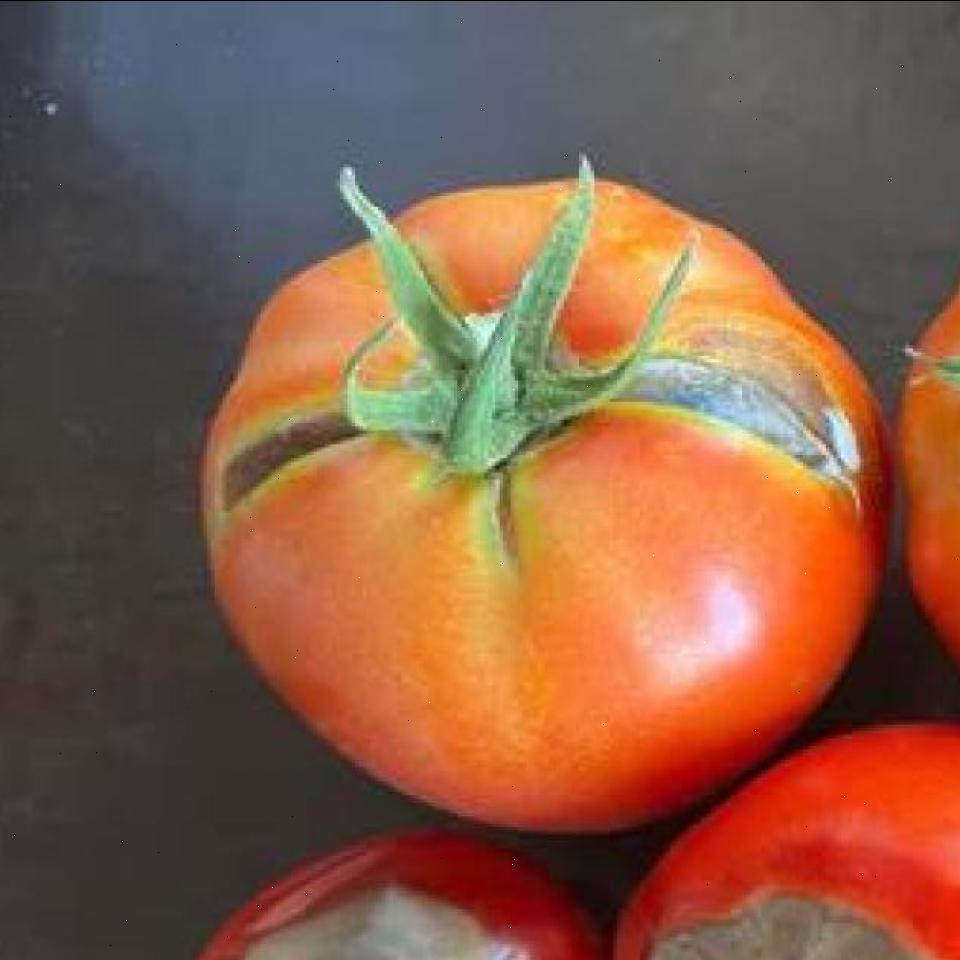Blossom_end_rot: (236, 881, 552, 960), (648, 887, 940, 960)
